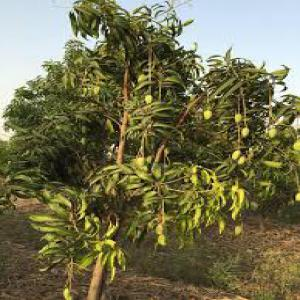Tree: (25, 1, 295, 293)
